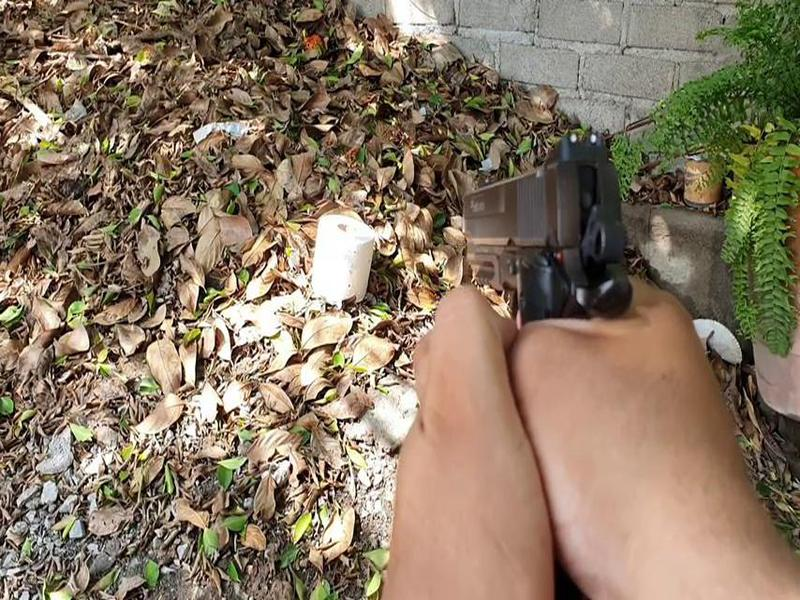Pistola: (446, 127, 648, 365)
